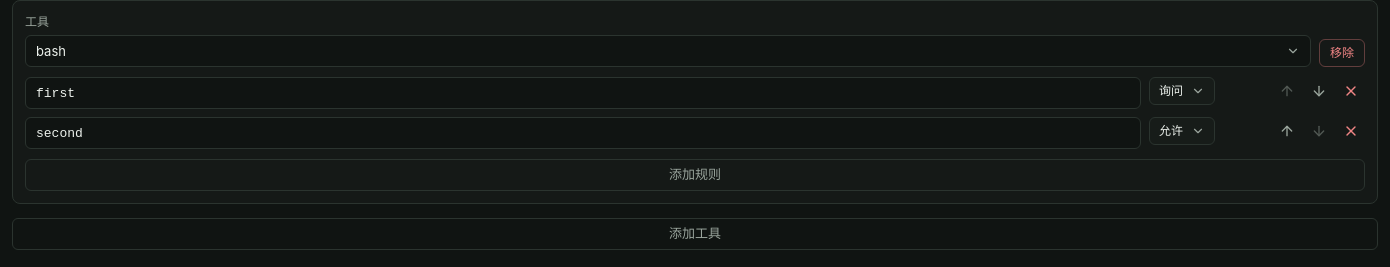
PermissionEditor UI › moves a rule up/down within the same tool preserving order
Check: the field named "第 1 条规则的模式" holds "first", box [25, 77, 1141, 109]
What coordinates should you click on to do the following:
click the 1st button named "下移"
I would click on:
 (1319, 91)
Its box is [1305, 77, 1333, 105].
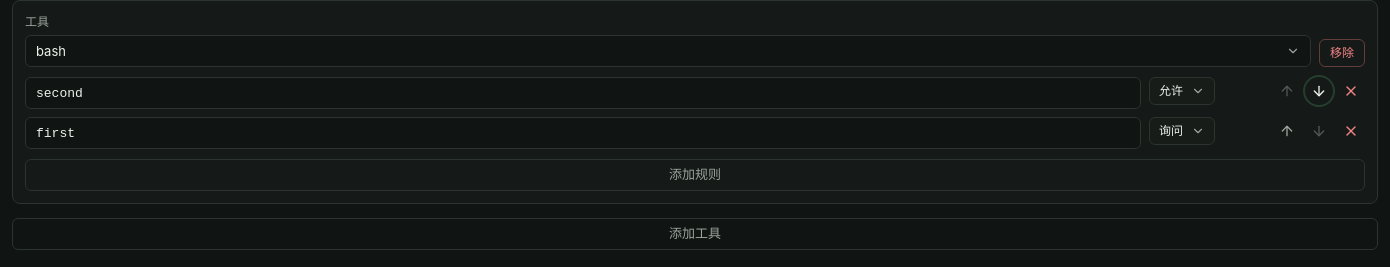
Check: the field named "第 1 条规则的模式" holds "second", box [25, 77, 1141, 109]
Check: the field named "第 2 条规则的模式" holds "first", box [25, 117, 1141, 149]
What coordinates should you click on to do the following:
click the 2nd button named "上移"
I would click on:
 (1287, 131)
Its box is [1273, 117, 1301, 145].
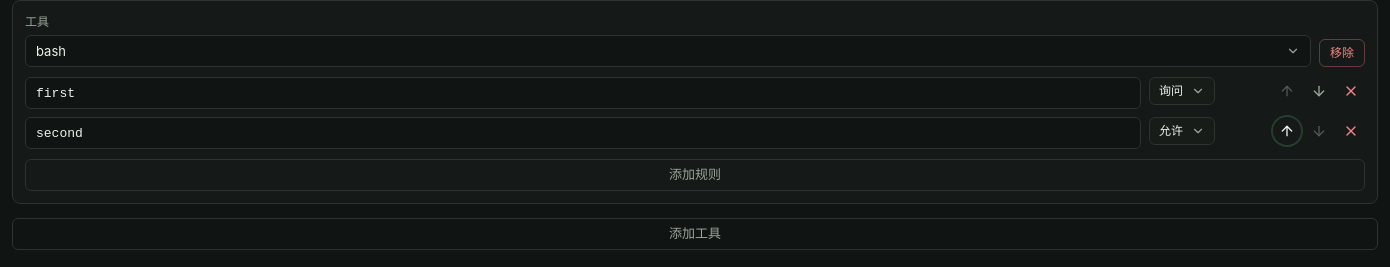
Check: the field named "第 1 条规则的模式" holds "first", box [25, 77, 1141, 109]
Check: the field named "第 2 条规则的模式" holds "second", box [25, 117, 1141, 149]
